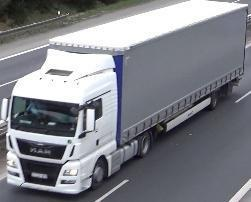Truck: (2, 2, 246, 194)
